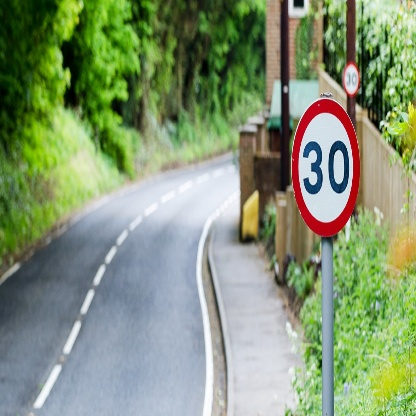limit2: (289, 96, 367, 238)
